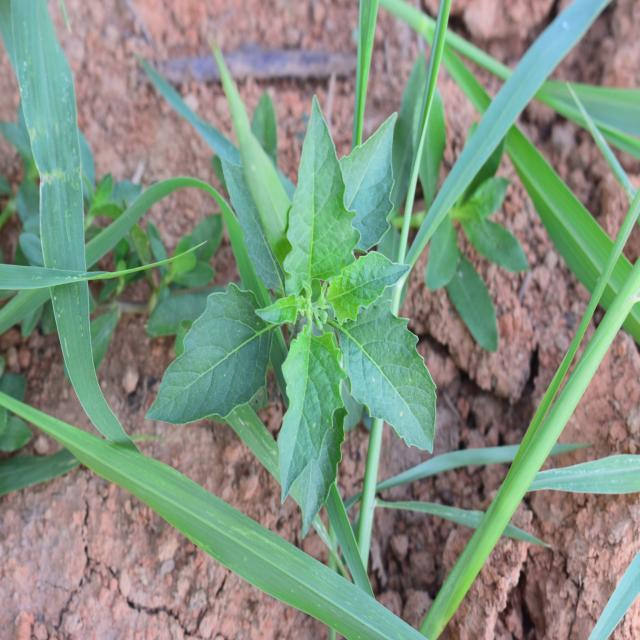Black_nightshade: (174, 128, 448, 492)
